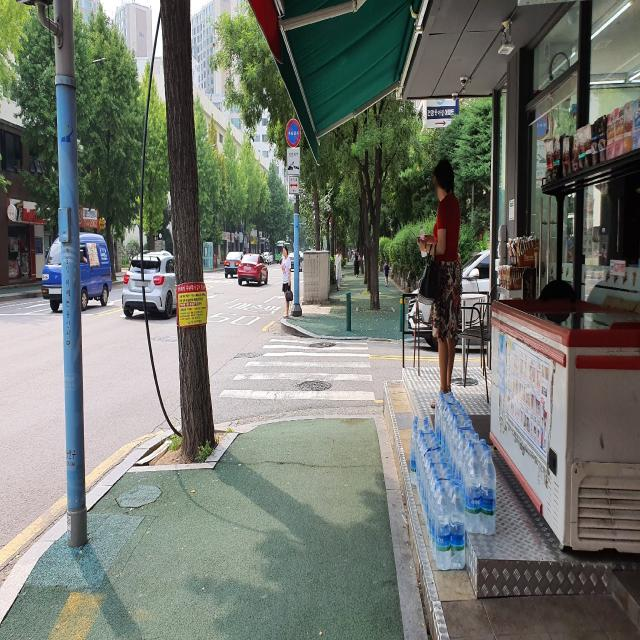횡단보도: (217, 338, 377, 402)
